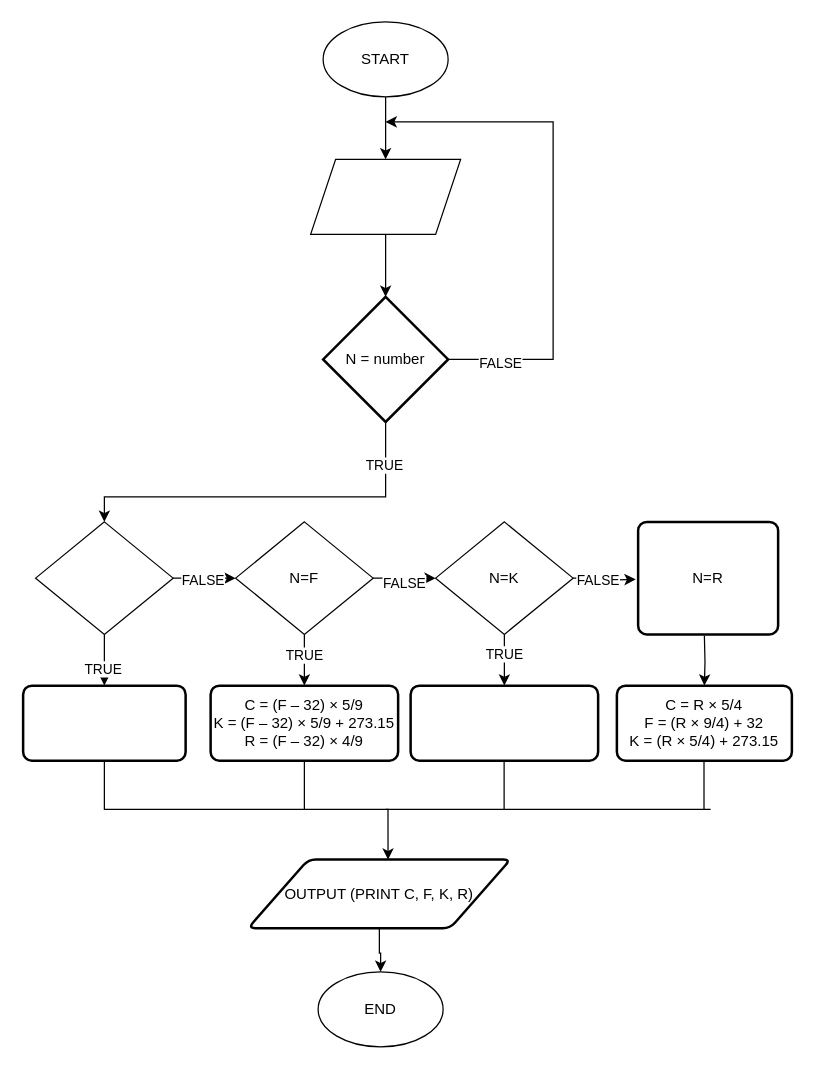
Some shapes in this 814 by 1069 pixel diagram are drawn without their labels. The shapes that lost their labels are listed below. From the top down, each one's centre as x and y in pixels, then its label:
[385,196]: INPUT N
[103,577]: N=C
[103,722]: F = (C × 9/5) + 32 K = C + 273.15 R = C × 4/5
[504,722]: C = K – 273.15 F = (K – 273.15) × 9/5 + 32 R = (K – 273.15) × 4/5
